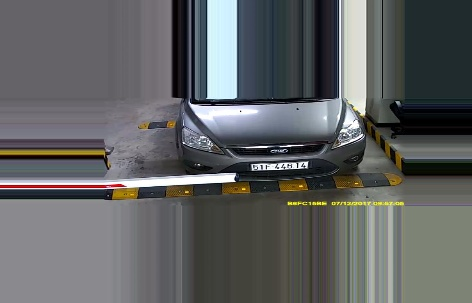plate: (250, 160, 311, 172)
